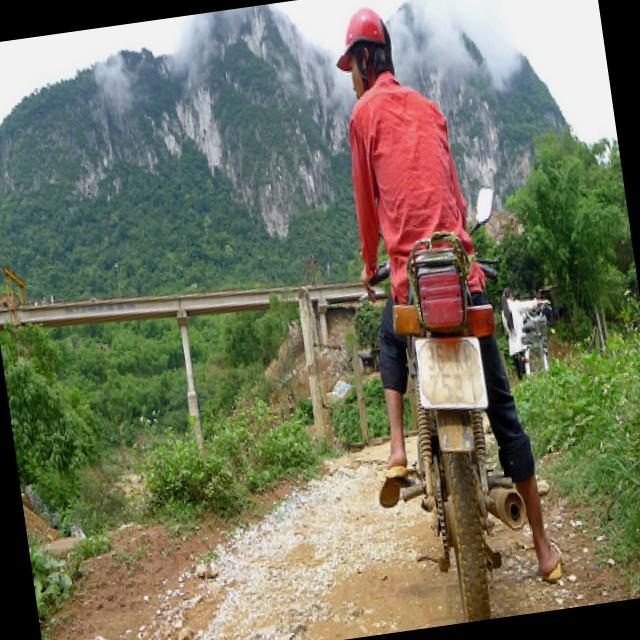Vehicle: (366, 236, 543, 630)
